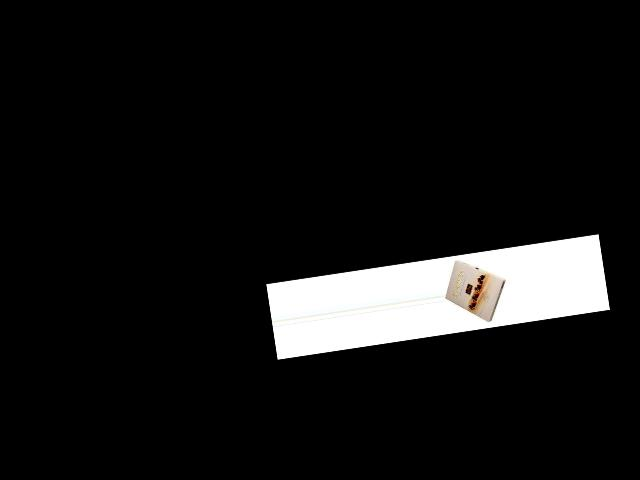chocolate: (441, 253, 513, 332)
